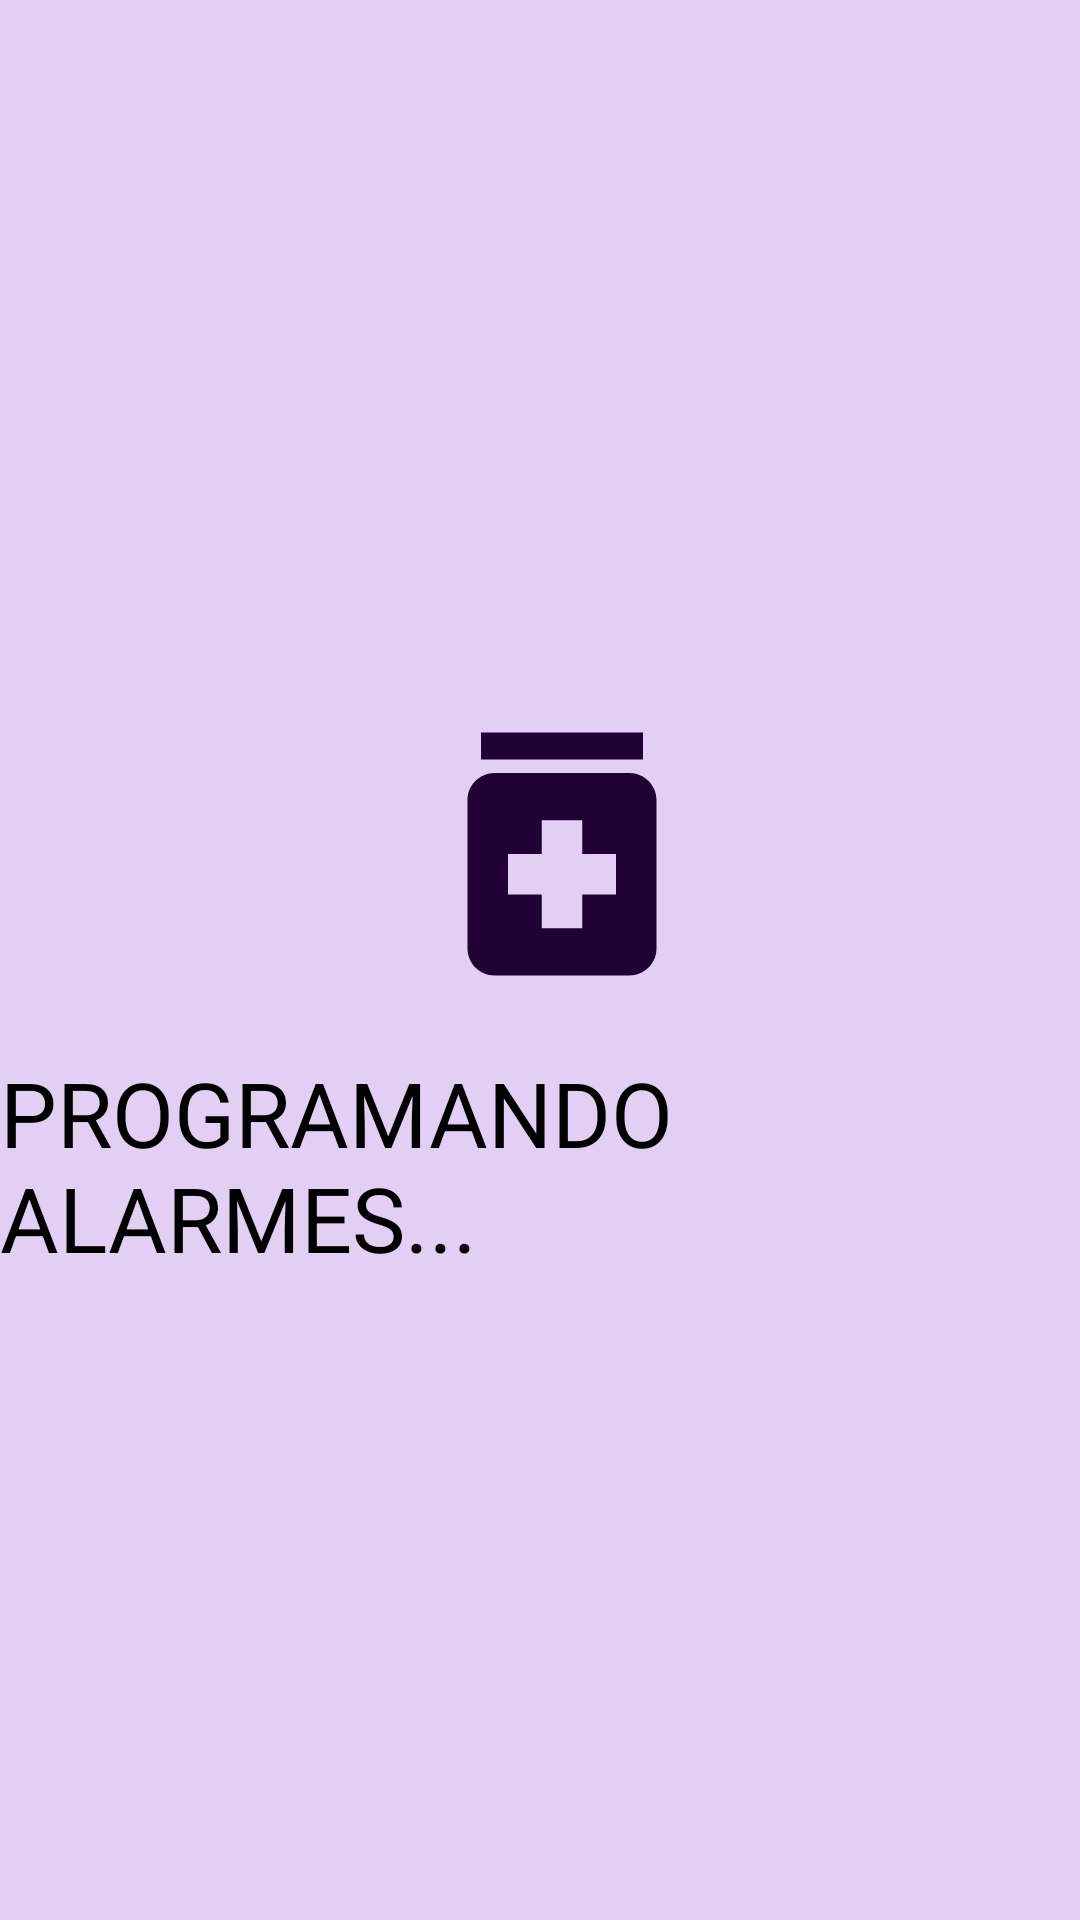

Icons on this 1080x1920 Android screen, each with its box as rect(x1, y1, x2, y2):
medicines: rect(467, 732, 657, 976)
